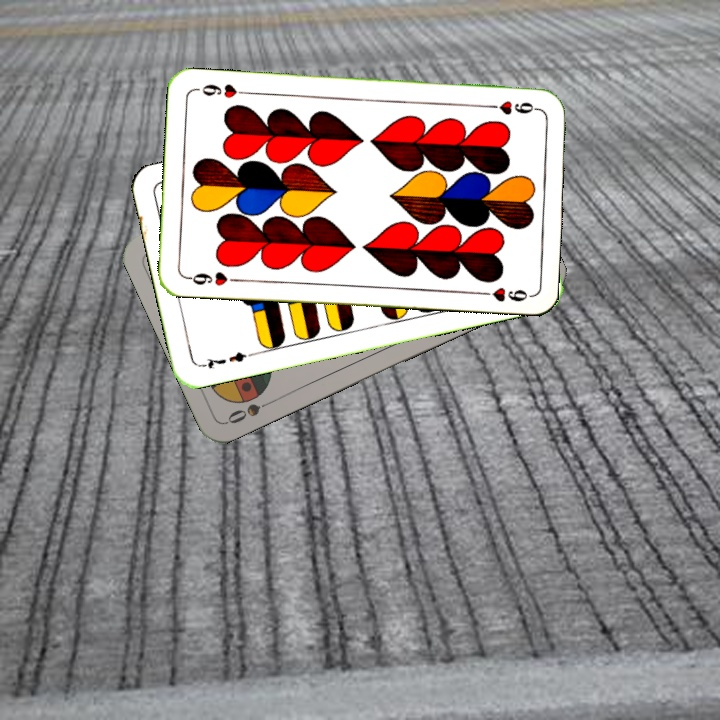E7: (196, 348, 255, 372)
H9: (182, 268, 242, 288), (482, 97, 541, 117)
SO: (223, 394, 279, 427)
